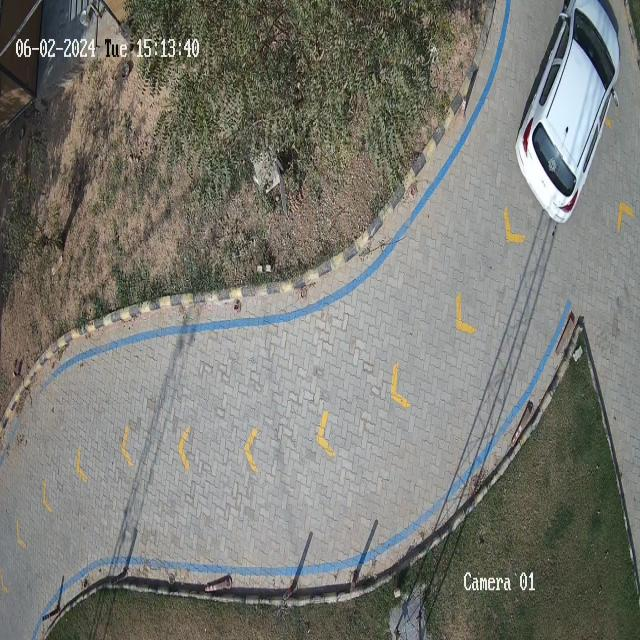car: (515, 0, 620, 222)
